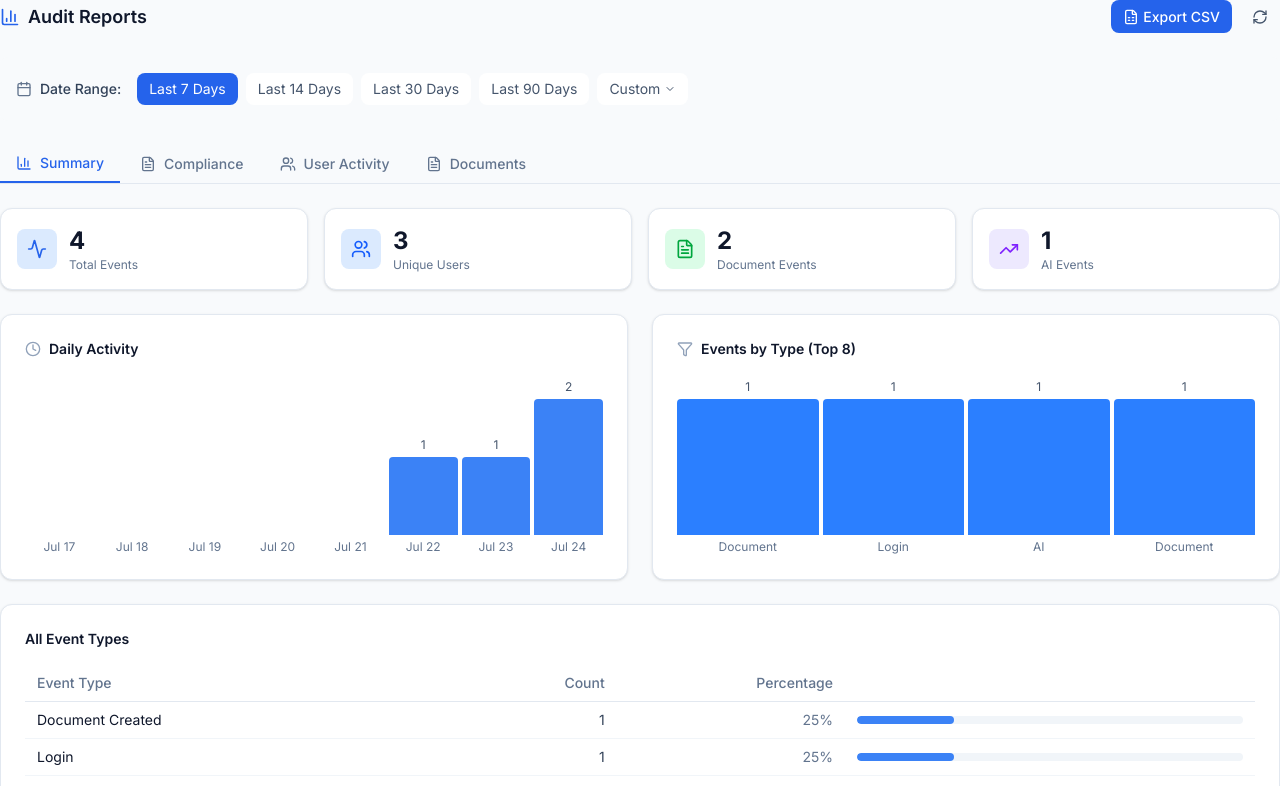
Scenario: AuditReportGenerator › Report Tabs › should switch to compliance report
What coordinates should you click on to do the following:
click the button "Compliance"
I would click on:
 (192, 164)
Its box is [124,145,260,183].
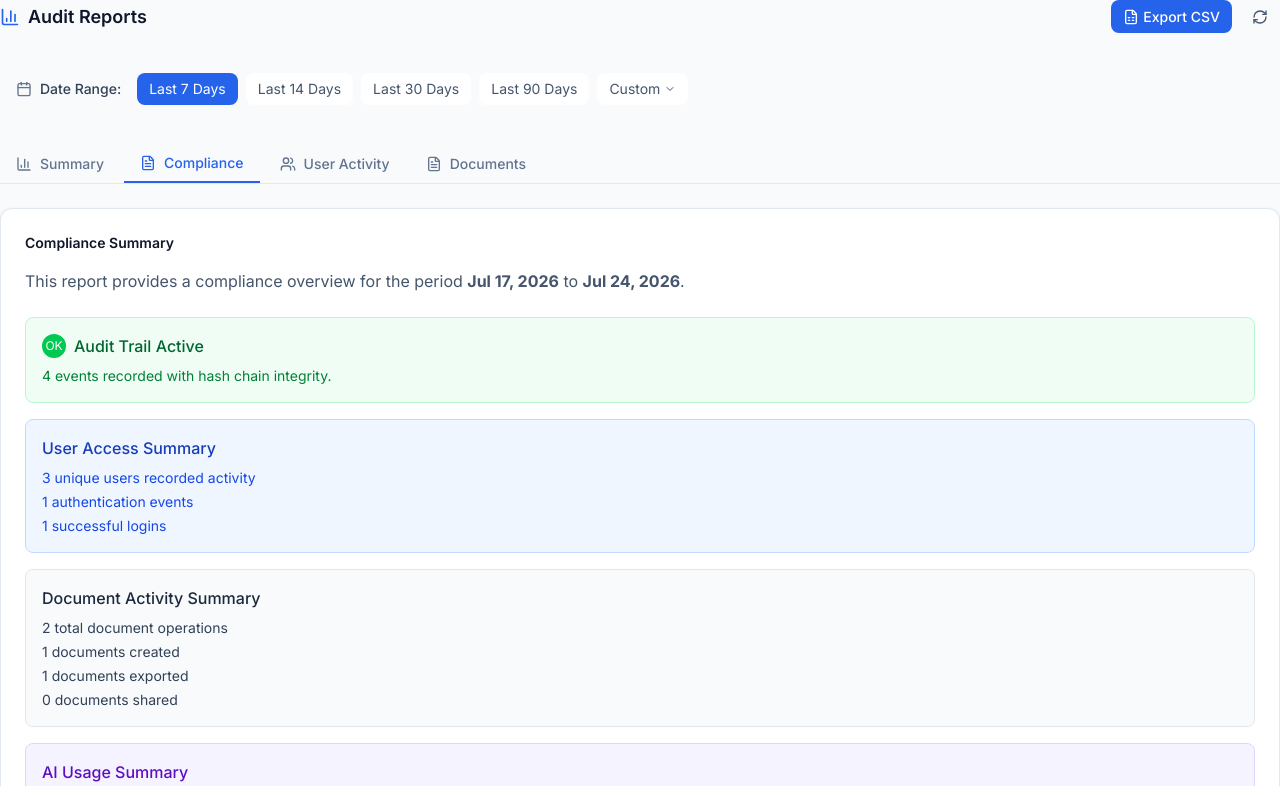
Result: the heading "Compliance Summary" is shown at [25,234,174,251]
